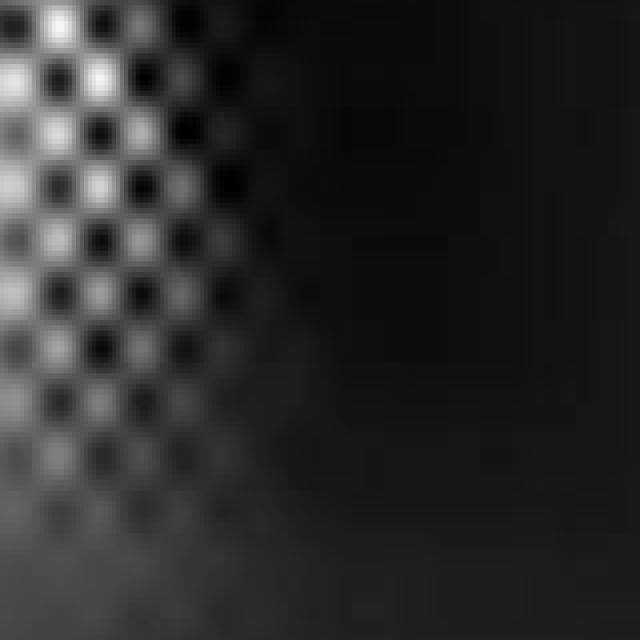person: (1, 1, 169, 540)
